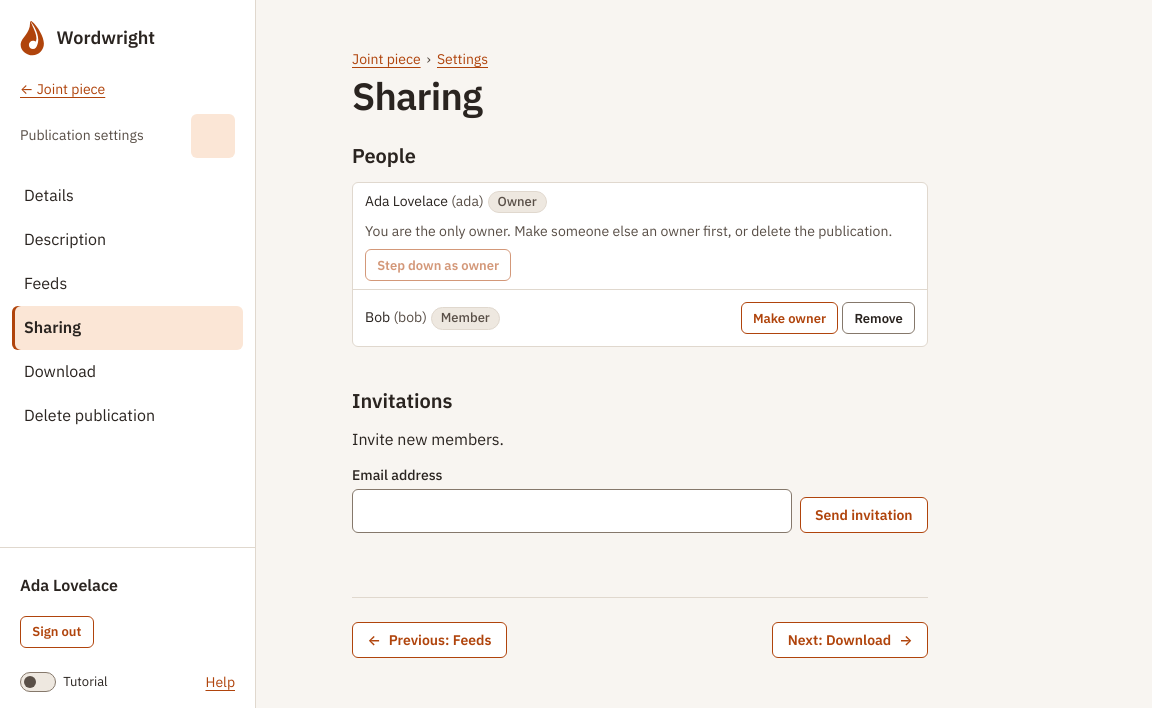
owners in the people list › shows the server's reason if the change is refused
Click the button with aria-label "Make owner Bob".
click(790, 318)  # box [741, 302, 838, 334]
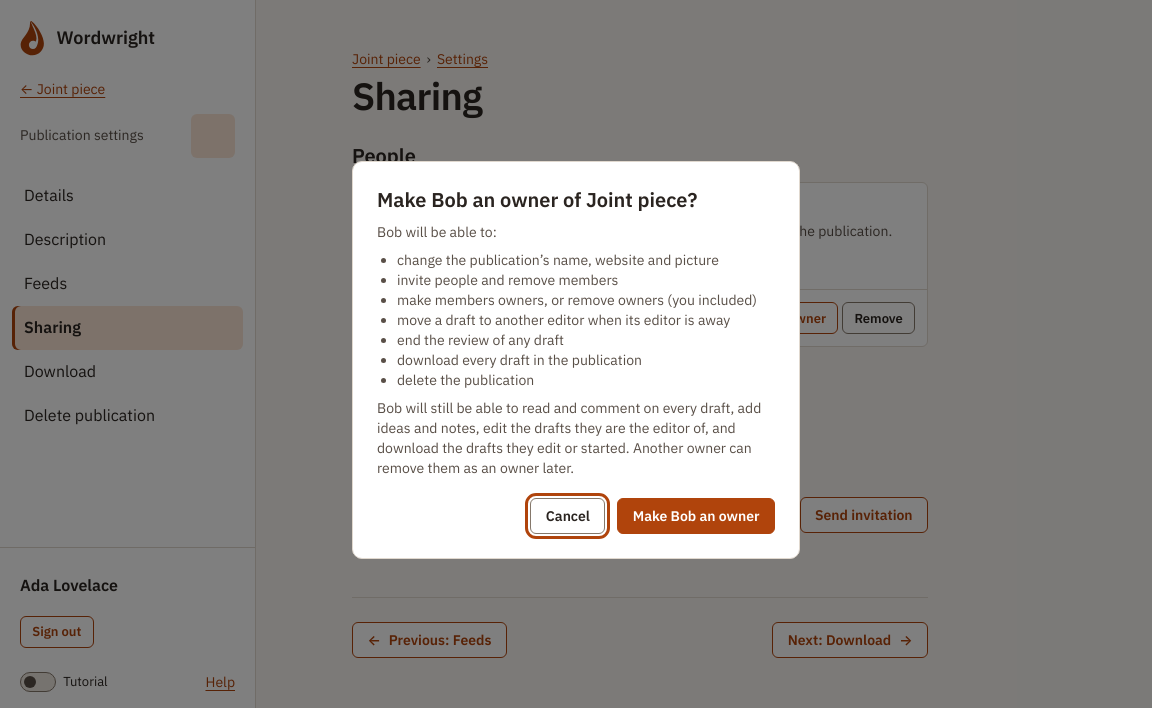
Click the button "Make Bob an owner".
click(696, 516)  # box [617, 498, 775, 534]
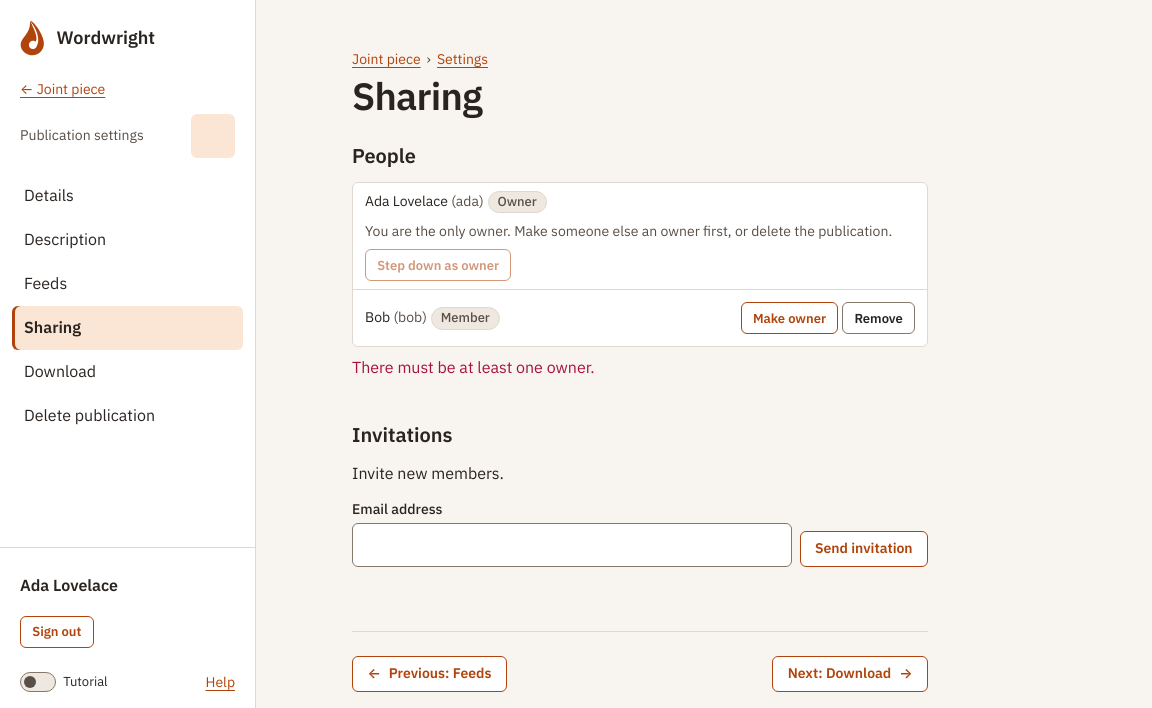
expect the message shows "at least one owner": met, box [352, 357, 595, 377]
